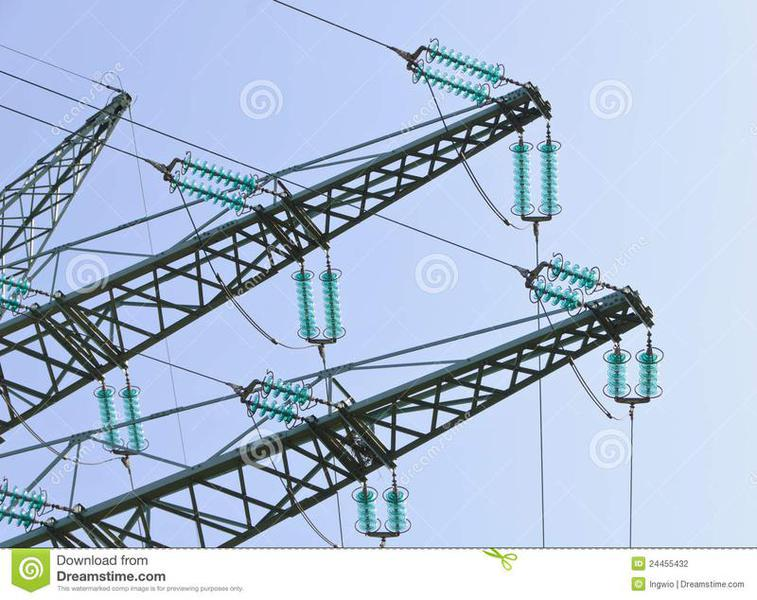isolator: (412, 45, 502, 103), (171, 157, 258, 211), (513, 143, 560, 214), (531, 258, 596, 309), (96, 386, 145, 450), (294, 271, 341, 337), (248, 376, 310, 422), (607, 351, 660, 397), (356, 490, 406, 532), (1, 482, 44, 529), (1, 274, 31, 312)
